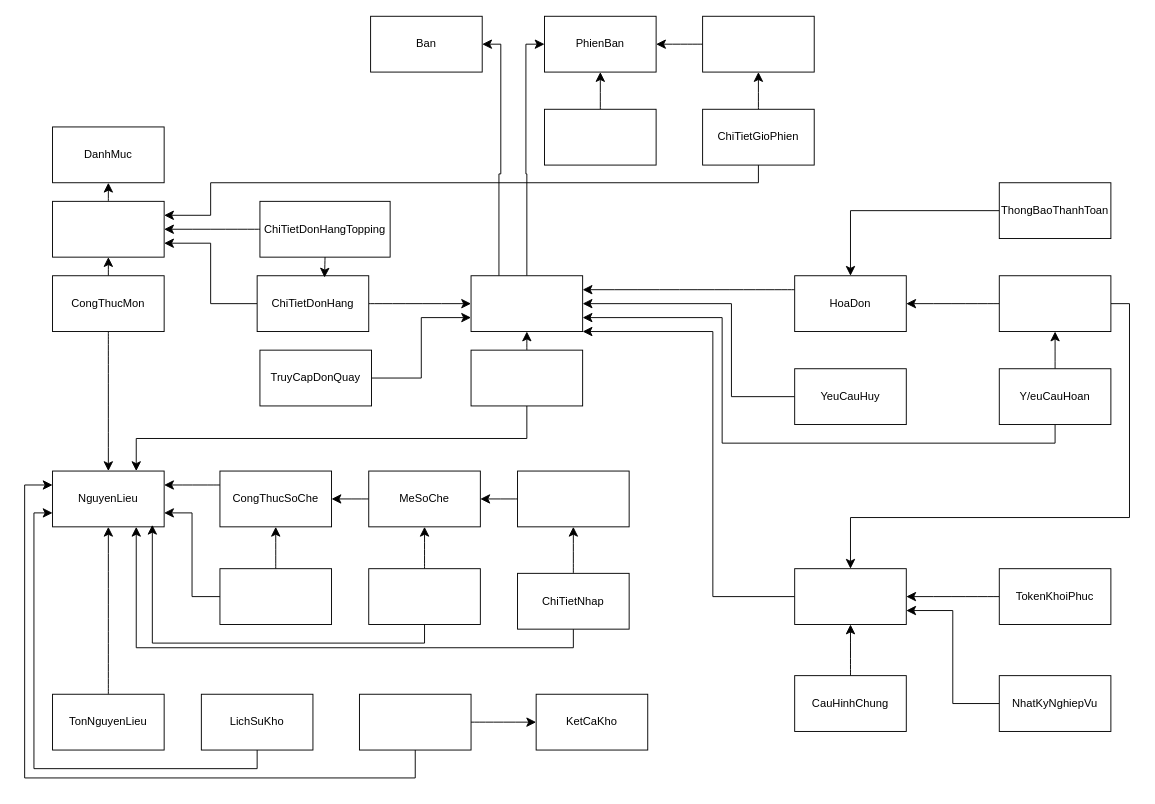
The diagram is 1155 pixels wide and 804 high, and some of its shapes have lost their labels. Each missing label, with the centre of its shape:
ChiTietCTSoChe: point (275, 596)
ChiTietKetCaKho: point (415, 721)
ChiTietMeSoChe: point (424, 596)
DanhMucDonHang: point (526, 377)
DonHang: point (526, 303)
GioPhien: point (758, 43)
MonUong: point (108, 228)
PhieuNhap: point (573, 498)
TaiKhoan: point (850, 596)
ThanhToan: point (1054, 303)
TruyCapPhienBan: point (600, 136)
